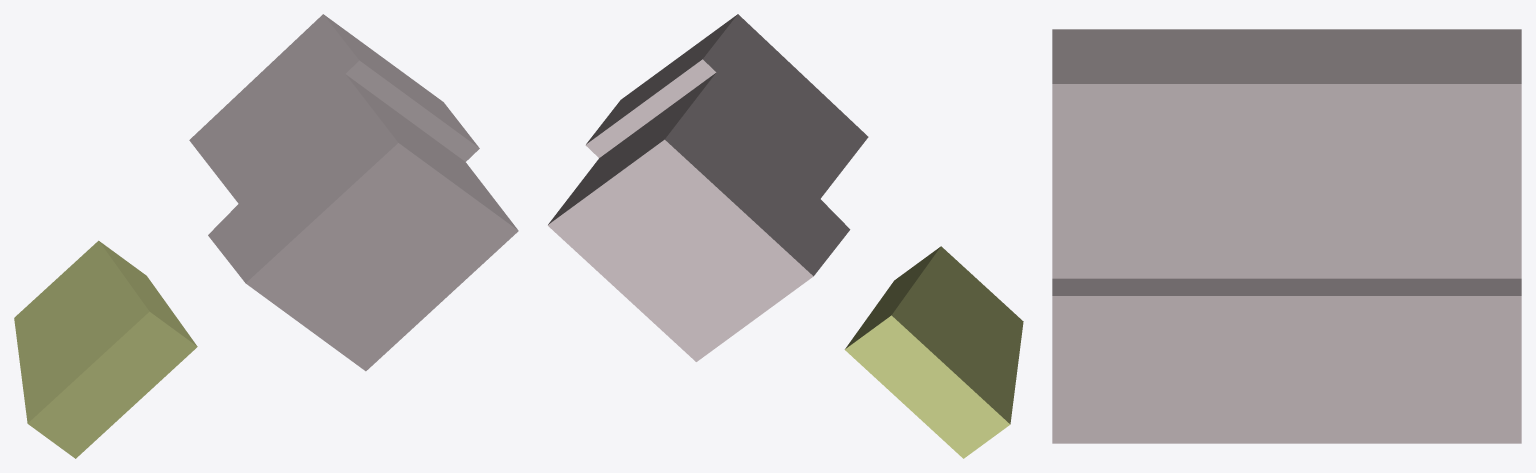
The picture shows the model from 3 angles, left to right: view 1: azimuth 30°, elevation 25°; view 2: azimuth 150°, elevation 25°; view 3: azimuth 270°, elevation 25°; orthographic projection. The views are drawn at different scales.
Visible parts, largest first — view 1: 0_1_1_3_3_0_1; view 2: 0_1_1_3_3_0_1; view 3: 0_1_1_3_3_0_1.
Part boxes in pixels (x1,y1,x2,y2): 0_1_1_3_3_0_1: (14,14,518,458); 0_1_1_3_3_0_1: (547,14,1023,458); 0_1_1_3_3_0_1: (1052,29,1521,443).
Bounding box in the file's own units: 29.67 × 21.32 × 15.
